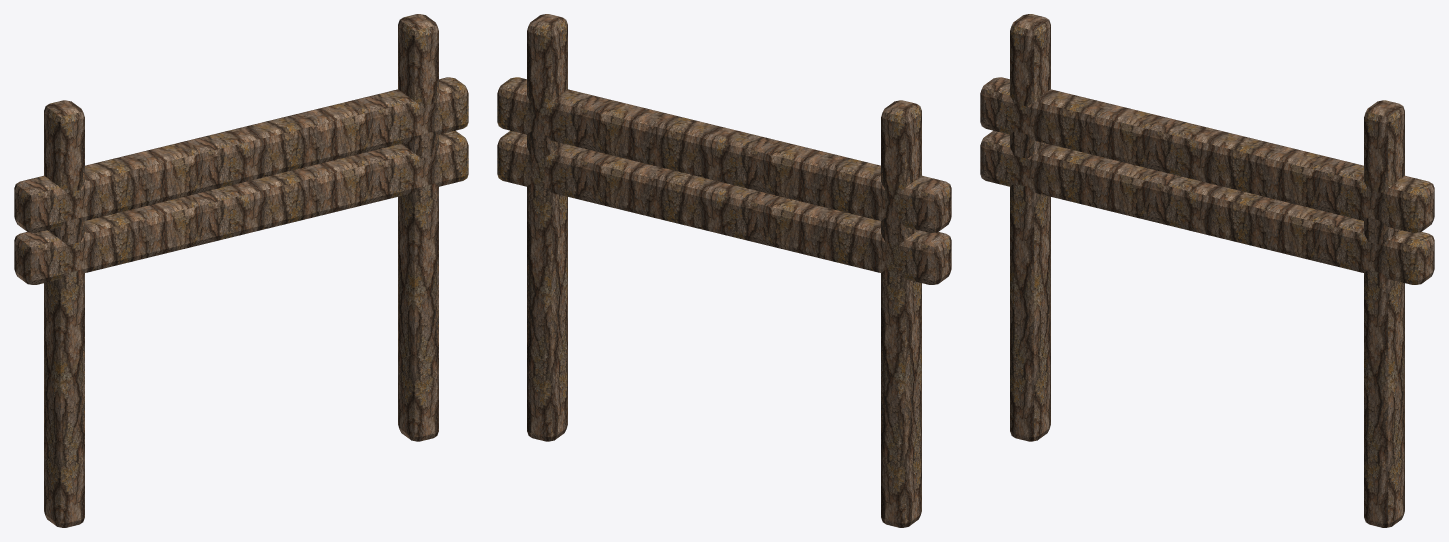
File: Autumn_TrailMarker.fbx
The picture shows the model from 3 angles, left to right: view 1: azimuth 30°, elevation 25°; view 2: azimuth 150°, elevation 25°; view 3: azimuth 330°, elevation 25°; orthographic projection.
Visible parts, largest first — view 1: TrailSign_Board.001, TrailSign_Board, TrailSign_Post, TrailSign_Post.001; view 2: TrailSign_Board.001, TrailSign_Board, TrailSign_Post.001, TrailSign_Post; view 3: TrailSign_Board.001, TrailSign_Board, TrailSign_Post.001, TrailSign_Post.
Part boxes in pixels (box(x1,y1,x2,y2)): TrailSign_Board.001: box(14, 77, 468, 232); TrailSign_Board: box(14, 130, 468, 284); TrailSign_Post: box(44, 100, 84, 527); TrailSign_Post.001: box(398, 14, 438, 441); TrailSign_Board.001: box(497, 77, 951, 232); TrailSign_Board: box(497, 130, 951, 284); TrailSign_Post.001: box(527, 14, 567, 441); TrailSign_Post: box(881, 100, 921, 527); TrailSign_Board.001: box(980, 77, 1434, 232); TrailSign_Board: box(980, 130, 1434, 284); TrailSign_Post.001: box(1364, 100, 1404, 527); TrailSign_Post: box(1010, 14, 1050, 441).
Bounding box in the file's own units: 400 × 360 × 30.
